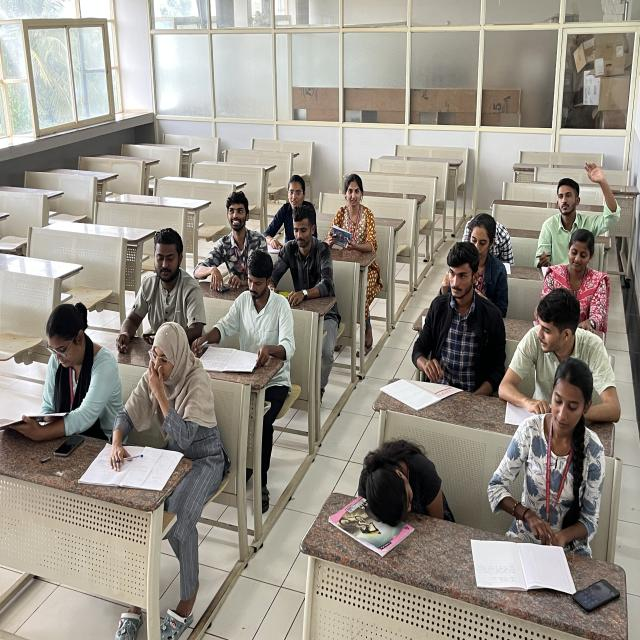Hand Rising: (526, 153, 621, 266)
Reading: (485, 357, 611, 590), (7, 282, 101, 458), (220, 252, 293, 374)
Sleeping: (335, 414, 456, 546)
Writing: (101, 324, 219, 498)
